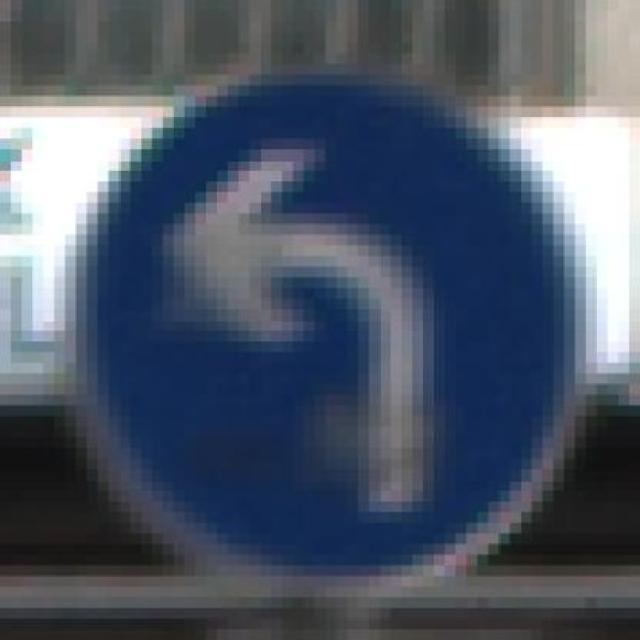Turn left ahead: (54, 53, 608, 598)
